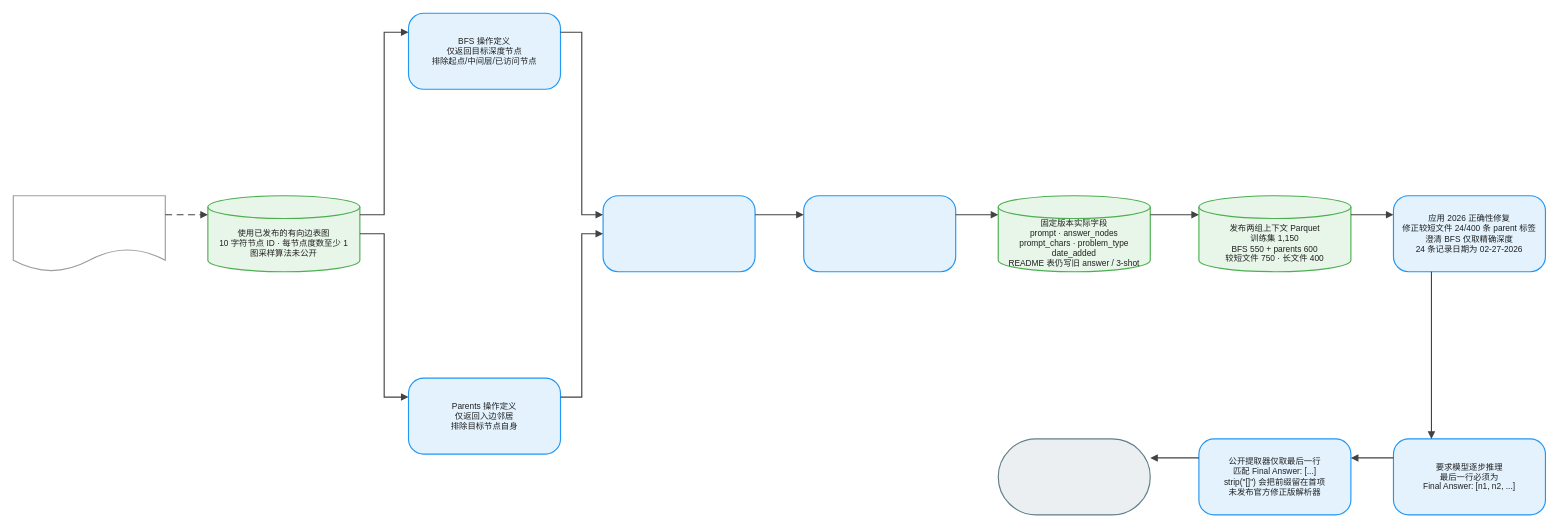
The diagram is 1560 pixels wide and 529 high, and some of its shapes have lost their labels. Here are the shapes that lost their labels. From the top down, the centre of each, then its label:
the point at 89,233: 一手证据 · 无构建论文 HF 数据卡/数据 f338bb26 README + 已发布 Parquet 记录
the point at 678,233: 使用发布的 answer_nodes 集合 标签生成/验证代码 未公开
the point at 879,233: 串行化每条用户提示 规则 + 四个固定示例 边表 + 操作 + 输出契约
the point at 1073,476: 公开的预期集合计分 精确率 · 召回率 · F1 空集/空集的 F1 = 1 提取器缺陷影响可执行得分
